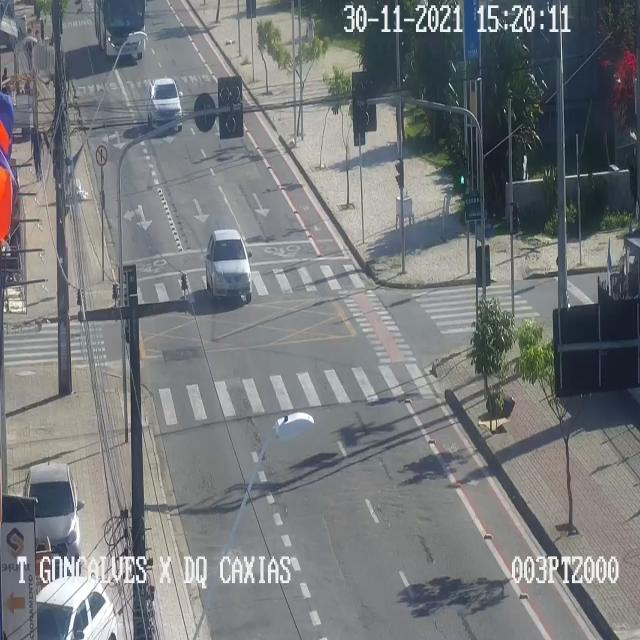Bus: (97, 1, 146, 65)
Car: (24, 463, 84, 556), (35, 574, 117, 639), (204, 228, 251, 300), (146, 78, 182, 136)
